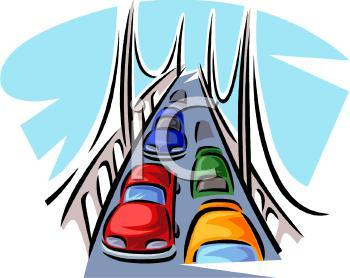car: (102, 159, 181, 264), (183, 199, 266, 263), (185, 143, 237, 196), (144, 103, 188, 162)
